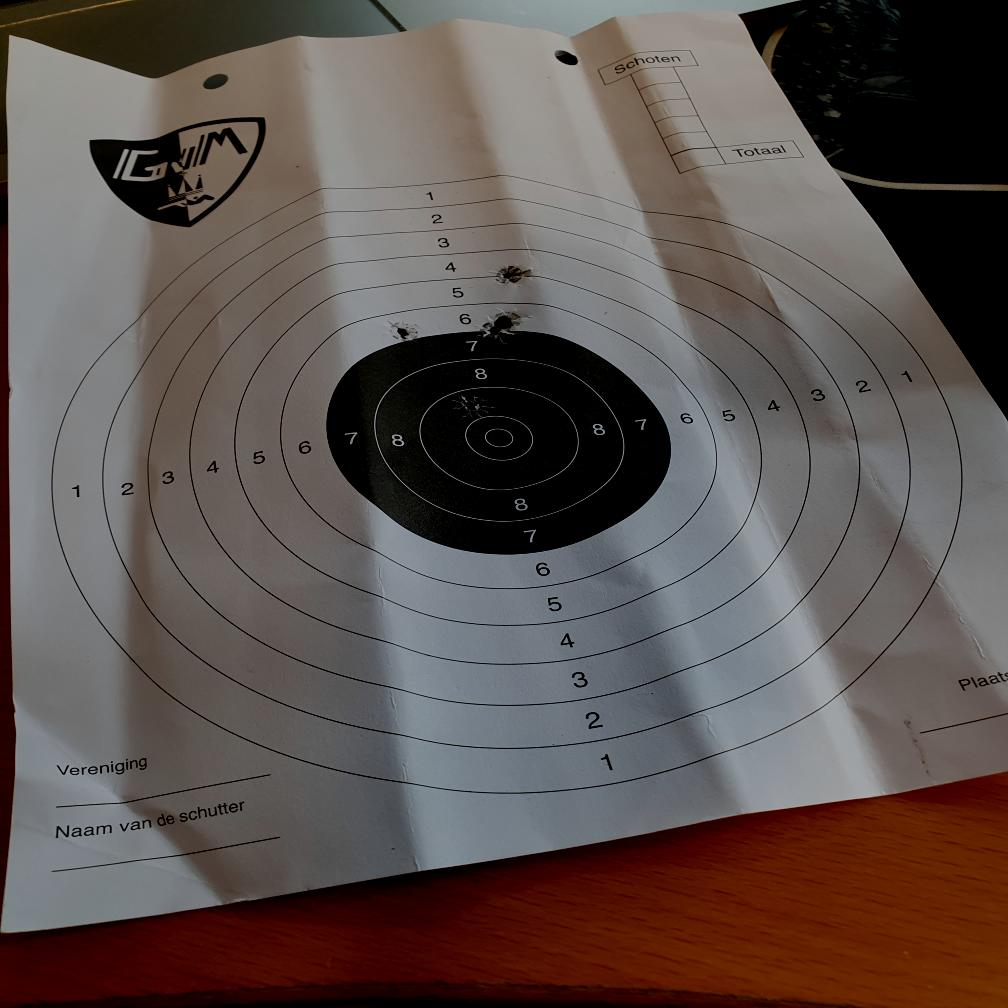5: (490, 261, 533, 288)
6: (385, 313, 416, 345), (493, 312, 519, 332)
7: (477, 322, 504, 346)
9: (452, 392, 490, 420)
Target: (51, 174, 964, 794)
black_contour: (327, 329, 672, 555)
